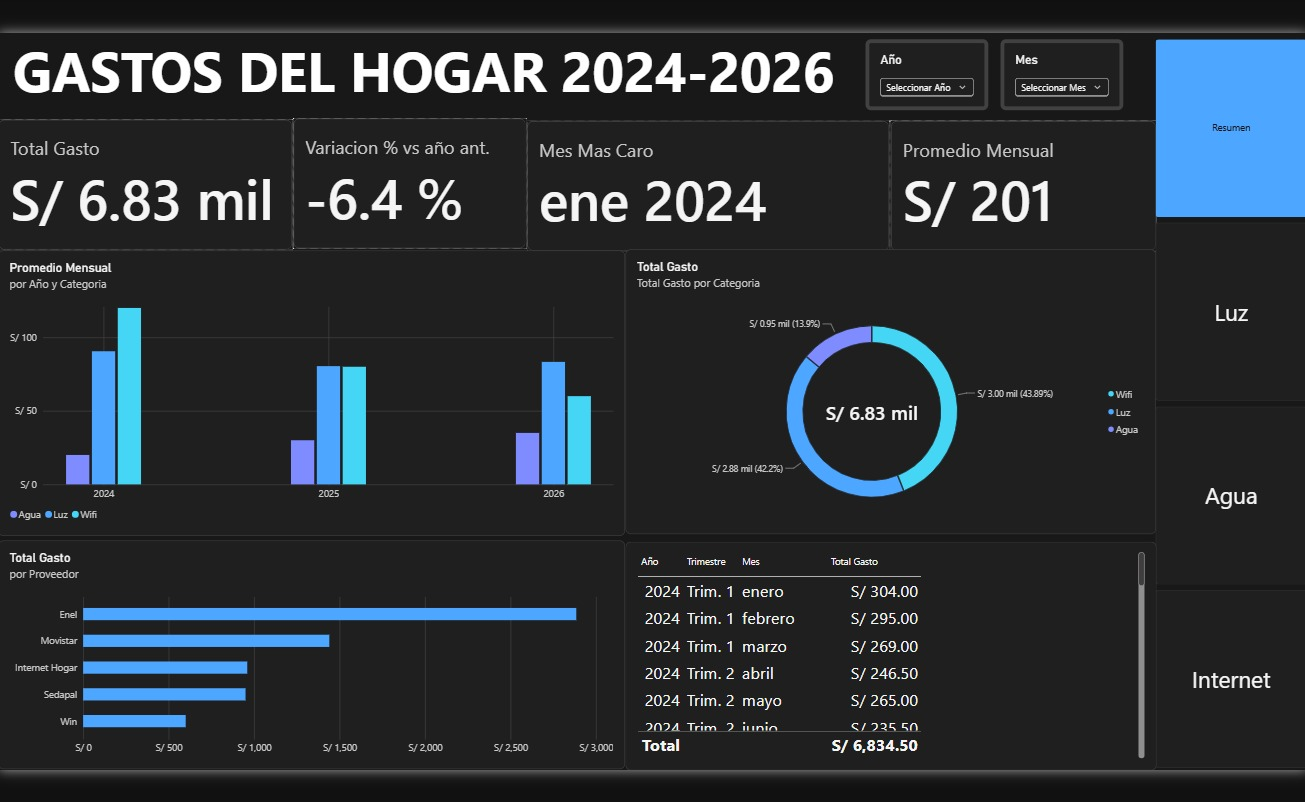

The dashboard page shown, as its layout file describes it:
{"tool":"powerbi","page":{"name":"Resumen","canvas":[1920,1080],"ordinal":0},"visuals":[{"type":"textbox","box":[0,0,1247.5,125],"z":0},{"type":"cardVisual","fields":{"Data":["gastos_final.Total Gasto"]},"box":[0,126,432,192],"z":1000},{"type":"cardVisual","fields":{"Data":["gastos_final.Variacion %"]},"box":[432.5,125,342.5,192.5],"z":2000},{"type":"cardVisual","fields":{"Data":["gastos_final.Mes Mas Caro"]},"box":[775,127.5,532,192],"z":3000},{"type":"cardVisual","fields":{"Data":["gastos_final.Promedio Mensual"]},"box":[1307.5,127.5,390,192.5],"z":4000},{"type":"donutChart","title":"Total Gasto","fields":{"Category":["gastos_final.Categoria"],"Y":["gastos_final.Total Gasto"]},"box":[920,317.5,777.5,417.5],"z":5000},{"type":"clusteredBarChart","fields":{"Category":["gastos_final.Proveedor"],"Y":["gastos_final.Total Gasto"]},"box":[0,744.7,918.9,335.3],"z":6000},{"type":"listSlicer","fields":{"Values":["gastos_final.Año"]},"box":[1272,10,180,104],"z":7000},{"type":"listSlicer","fields":{"Values":["gastos_final.Fecha.Variation.Jerarquía de fechas.Mes"]},"box":[1470,10,180,104],"z":8000},{"type":"clusteredColumnChart","fields":{"Category":["gastos_final.Año"],"Series":["gastos_final.Categoria"],"Y":["gastos_final.Promedio Mensual"]},"box":[0,318.5,919.3,418],"z":9000},{"type":"pageNavigator","box":[1697.5,10,222.5,1070],"z":10000},{"type":"tableEx","fields":{"Values":["gastos_final.Fecha.Variation.Jerarquía de fechas.Año","gastos_final.Fecha.Variation.Jerarquía de fechas.Trimestre","gastos_final.Fecha.Variation.Jerarquía de fechas.Mes","gastos_final.Total Gasto"]},"box":[920,745,778,335],"z":11000}]}

Visuals, with their boxes on the page's 1920x1080 design canvas (x1, y1, x2, y2). These are canvas units, not pixel positions in the 1305x802 screenshot, which may show the page scaled, cropped or inside an application window:
textbox: bbox(0, 0, 1248, 125)
cardVisual - gastos_final.Total Gasto: bbox(0, 126, 432, 318)
cardVisual - gastos_final.Variacion %: bbox(432, 125, 775, 318)
cardVisual - gastos_final.Mes Mas Caro: bbox(775, 128, 1307, 320)
cardVisual - gastos_final.Promedio Mensual: bbox(1308, 128, 1698, 320)
"Total Gasto" donutChart: bbox(920, 318, 1698, 735)
clusteredBarChart - gastos_final.Proveedor x gastos_final.Total Gasto: bbox(0, 745, 919, 1080)
listSlicer - gastos_final.Año: bbox(1272, 10, 1452, 114)
listSlicer - gastos_final.Fecha.Variation.Jerarquía de fechas.Mes: bbox(1470, 10, 1650, 114)
clusteredColumnChart - gastos_final.Año x gastos_final.Categoria: bbox(0, 318, 919, 736)
pageNavigator: bbox(1698, 10, 1920, 1080)
tableEx - gastos_final.Fecha.Variation.Jerarquía de fechas.Año x gastos_final.Fecha.Variation.Jerarquía de fechas.Trimestre: bbox(920, 745, 1698, 1080)
